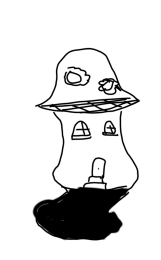closed_window: (70, 117, 94, 142), (101, 118, 121, 141)
door: (85, 152, 110, 191)
roof: (32, 42, 143, 115)
shadow: (26, 179, 148, 244)
wall: (48, 108, 143, 191)
